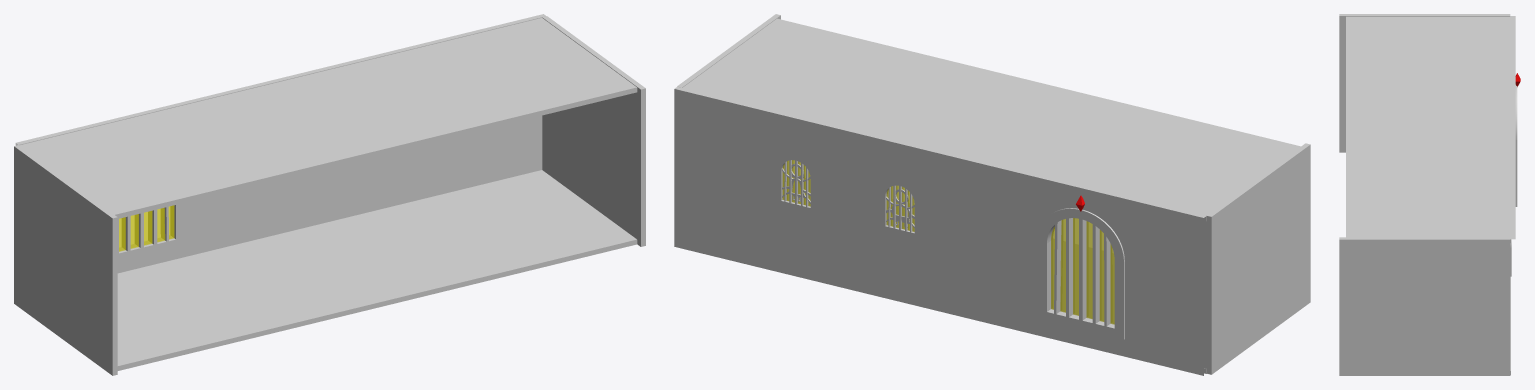
The model's file is stage1_2_lower_stage.FBX.
The picture shows the model from 3 angles, left to right: view 1: azimuth 30°, elevation 25°; view 2: azimuth 150°, elevation 25°; view 3: azimuth 270°, elevation 25°; orthographic projection. The views are drawn at different scales.
Parts seen in each view (by area): view 1: floor001, floor, wall, wall001, wall002, wood_window003, glass_window001; view 2: wall, floor001, wall001, wood_window003, glass_window001, floor, wood_window2, wood_window, glass_window (×2), wall002; view 3: floor001, wall002, wall001, wall, wood_window003.
Boxes of the visible parts, left/top/right/bottom form: floor001: left=20, top=18, right=637, bottom=218; floor: left=117, top=170, right=637, bottom=370; wall: left=15, top=14, right=546, bottom=273; wall001: left=14, top=145, right=117, bottom=375; wall002: left=542, top=16, right=645, bottom=246; wood_window003: left=117, top=202, right=185, bottom=262; glass_window001: left=119, top=205, right=174, bottom=251; wall: left=674, top=86, right=1206, bottom=375; floor001: left=683, top=18, right=1300, bottom=221; wall001: left=1207, top=143, right=1310, bottom=374; wood_window003: left=1037, top=208, right=1124, bottom=339; glass_window001: left=1051, top=218, right=1114, bottom=324; floor: left=784, top=174, right=1206, bottom=373; wood_window2: left=777, top=158, right=811, bottom=211; wood_window: left=881, top=183, right=915, bottom=237; glass_window (×2): left=782, top=160, right=914, bottom=231; wall002: left=677, top=14, right=780, bottom=87; floor001: left=1346, top=16, right=1510, bottom=243; wall002: left=1339, top=237, right=1510, bottom=375; wall001: left=1339, top=14, right=1510, bottom=152; wall: left=1510, top=16, right=1515, bottom=239; wood_window003: left=1515, top=85, right=1517, bottom=206.
Bounding box in the file's own units: 1537 × 434 × 522.
